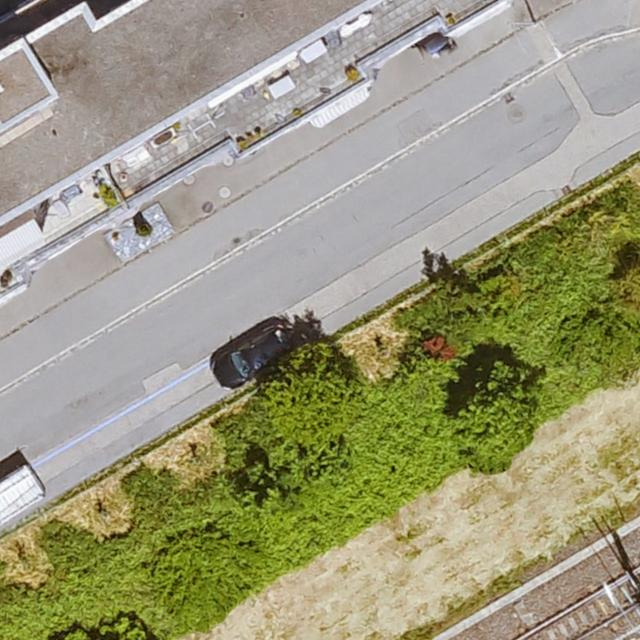tree: (242, 341, 369, 486), (452, 355, 531, 471)
